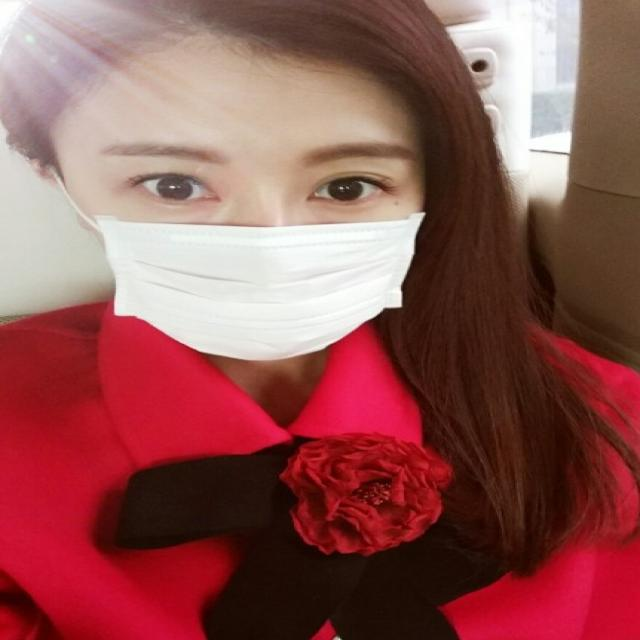mask: (81, 31, 424, 358)
